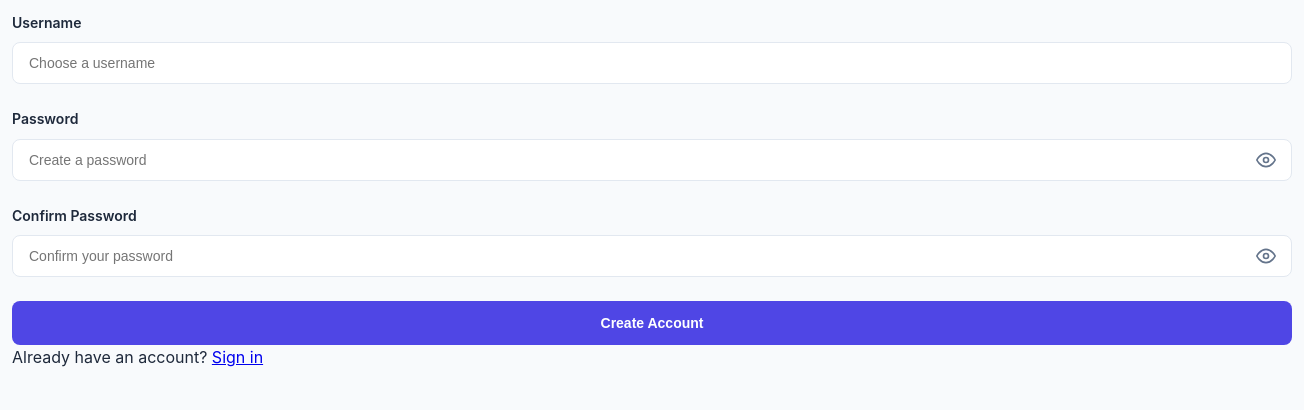
RegisterForm › Form validation › should show validation error for short username
This screenshot has width=1304, height=410.
Type "ab" into the field labelled "Username" at point(652, 63), box [12,42,1292,84]
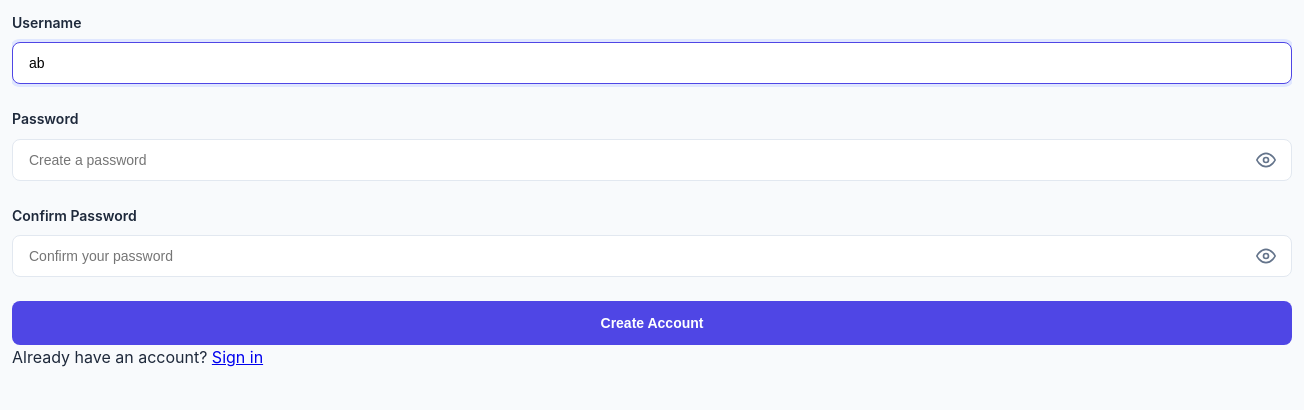
Press Tab
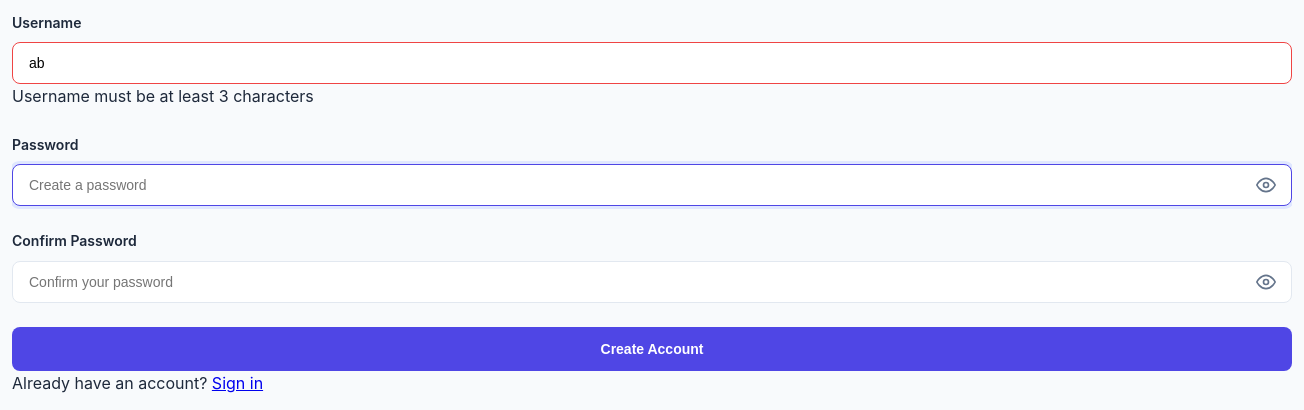
Expected: the text "Username must be at least 3 characters" is shown, [12,86,314,106]
